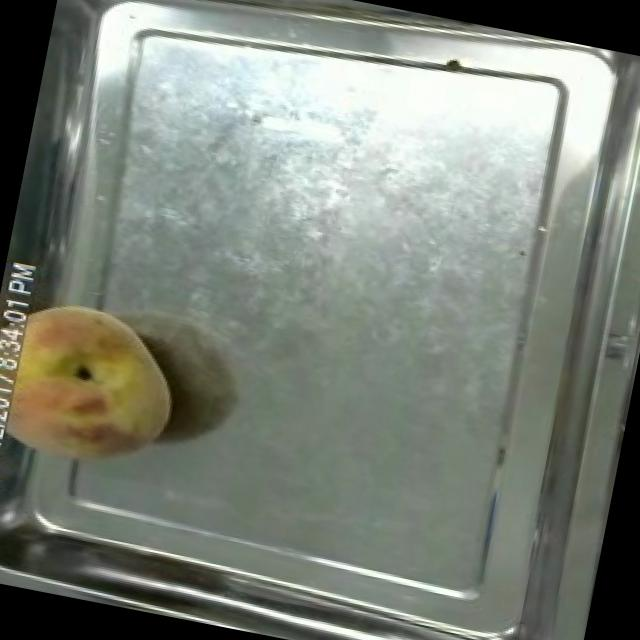Fruit: (0, 287, 196, 489)
